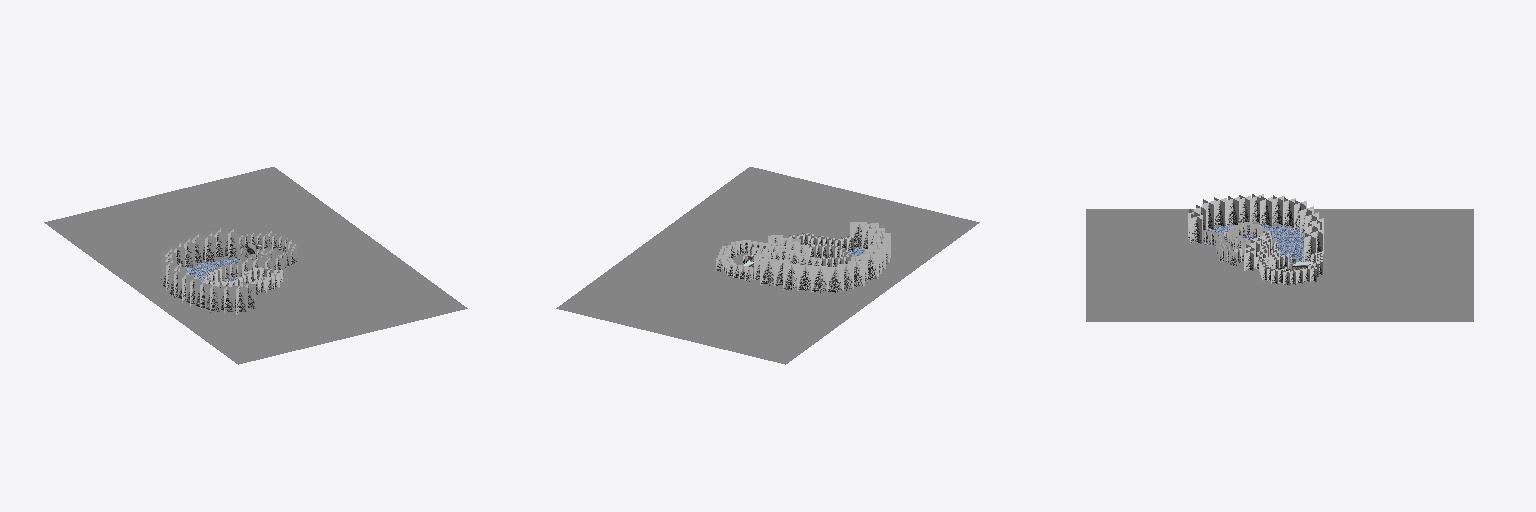
3 renders of one model, left to right at view 1: azimuth 30°, elevation 25°; view 2: azimuth 150°, elevation 25°; view 3: azimuth 270°, elevation 25°, orthographic.
Parts seen in each view (by area): view 1: Plane002; view 2: Plane002; view 3: Plane002, Line004.
Boxes of the visible parts, box(x1,y1,x2,y2) form: Plane002: box(44, 167, 467, 364); Plane002: box(556, 167, 979, 364); Plane002: box(1086, 209, 1473, 321); Line004: box(1203, 224, 1304, 264).
Size of the model in its own units: 1131 by 146 by 1655.
Materials: 8 (7 with a texture image).